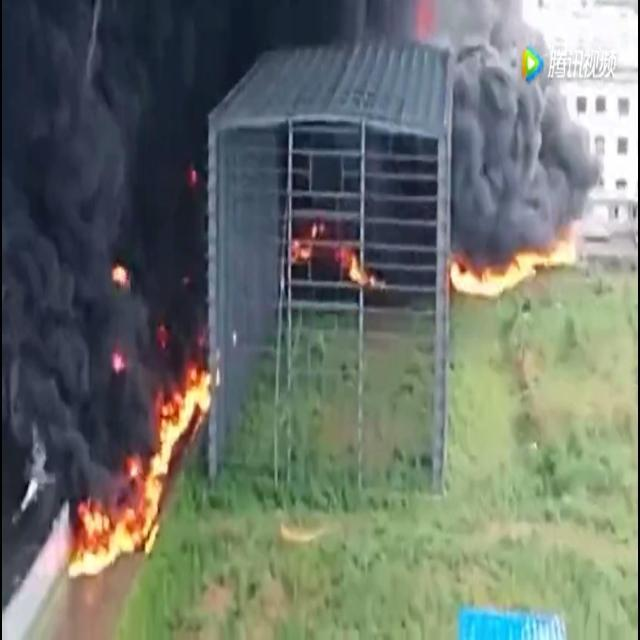Fire: (68, 356, 212, 580), (451, 238, 577, 298), (290, 219, 326, 264), (348, 252, 377, 288), (111, 264, 127, 286)
Smoke: (0, 1, 605, 514)
